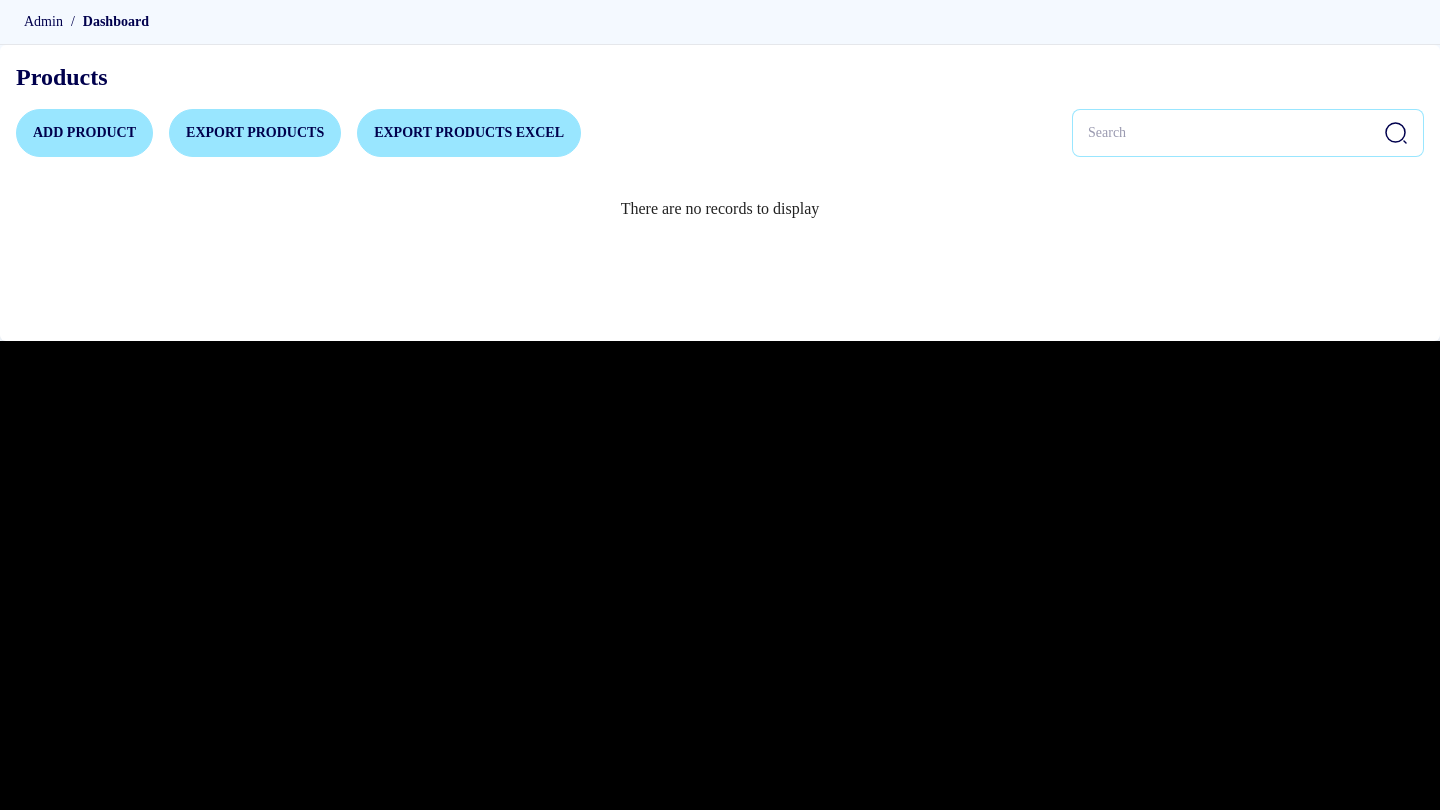
Test: AdminDashboard - Products › should open modal when Add Product button is clicked
Click the button "Add Product".
click(85, 133)  # box [16,109,153,157]
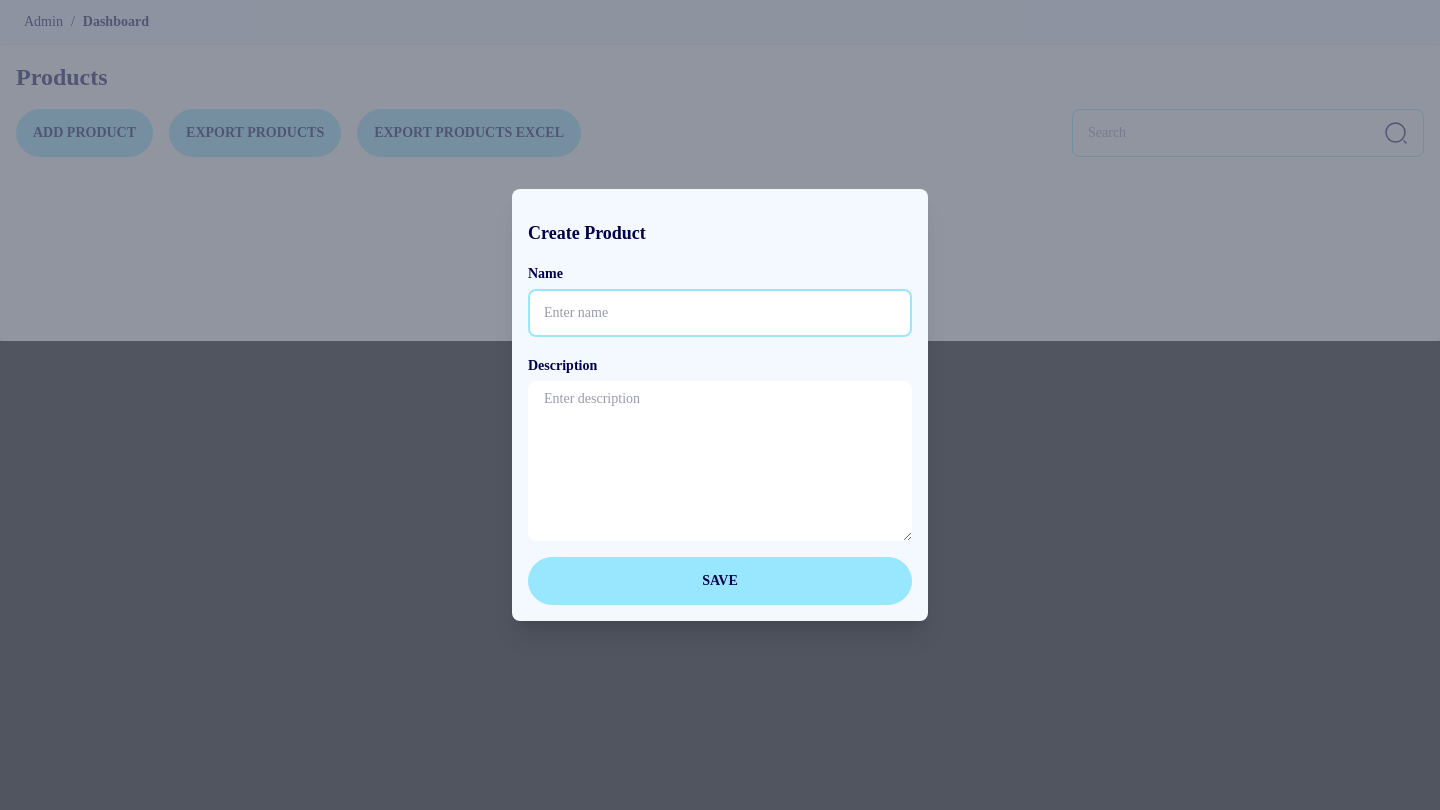
Check: the heading "Create Product" is shown, box [528,223,646,243]
